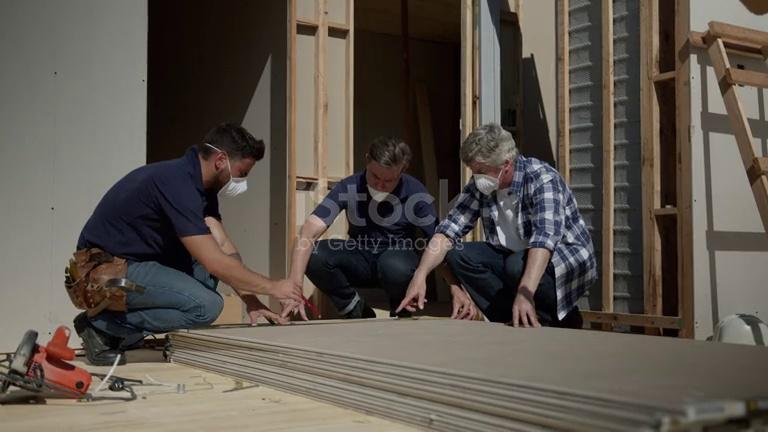mask: (216, 168, 249, 198), (470, 173, 500, 193)
person: (66, 119, 306, 369), (396, 123, 600, 330), (284, 132, 479, 320)
